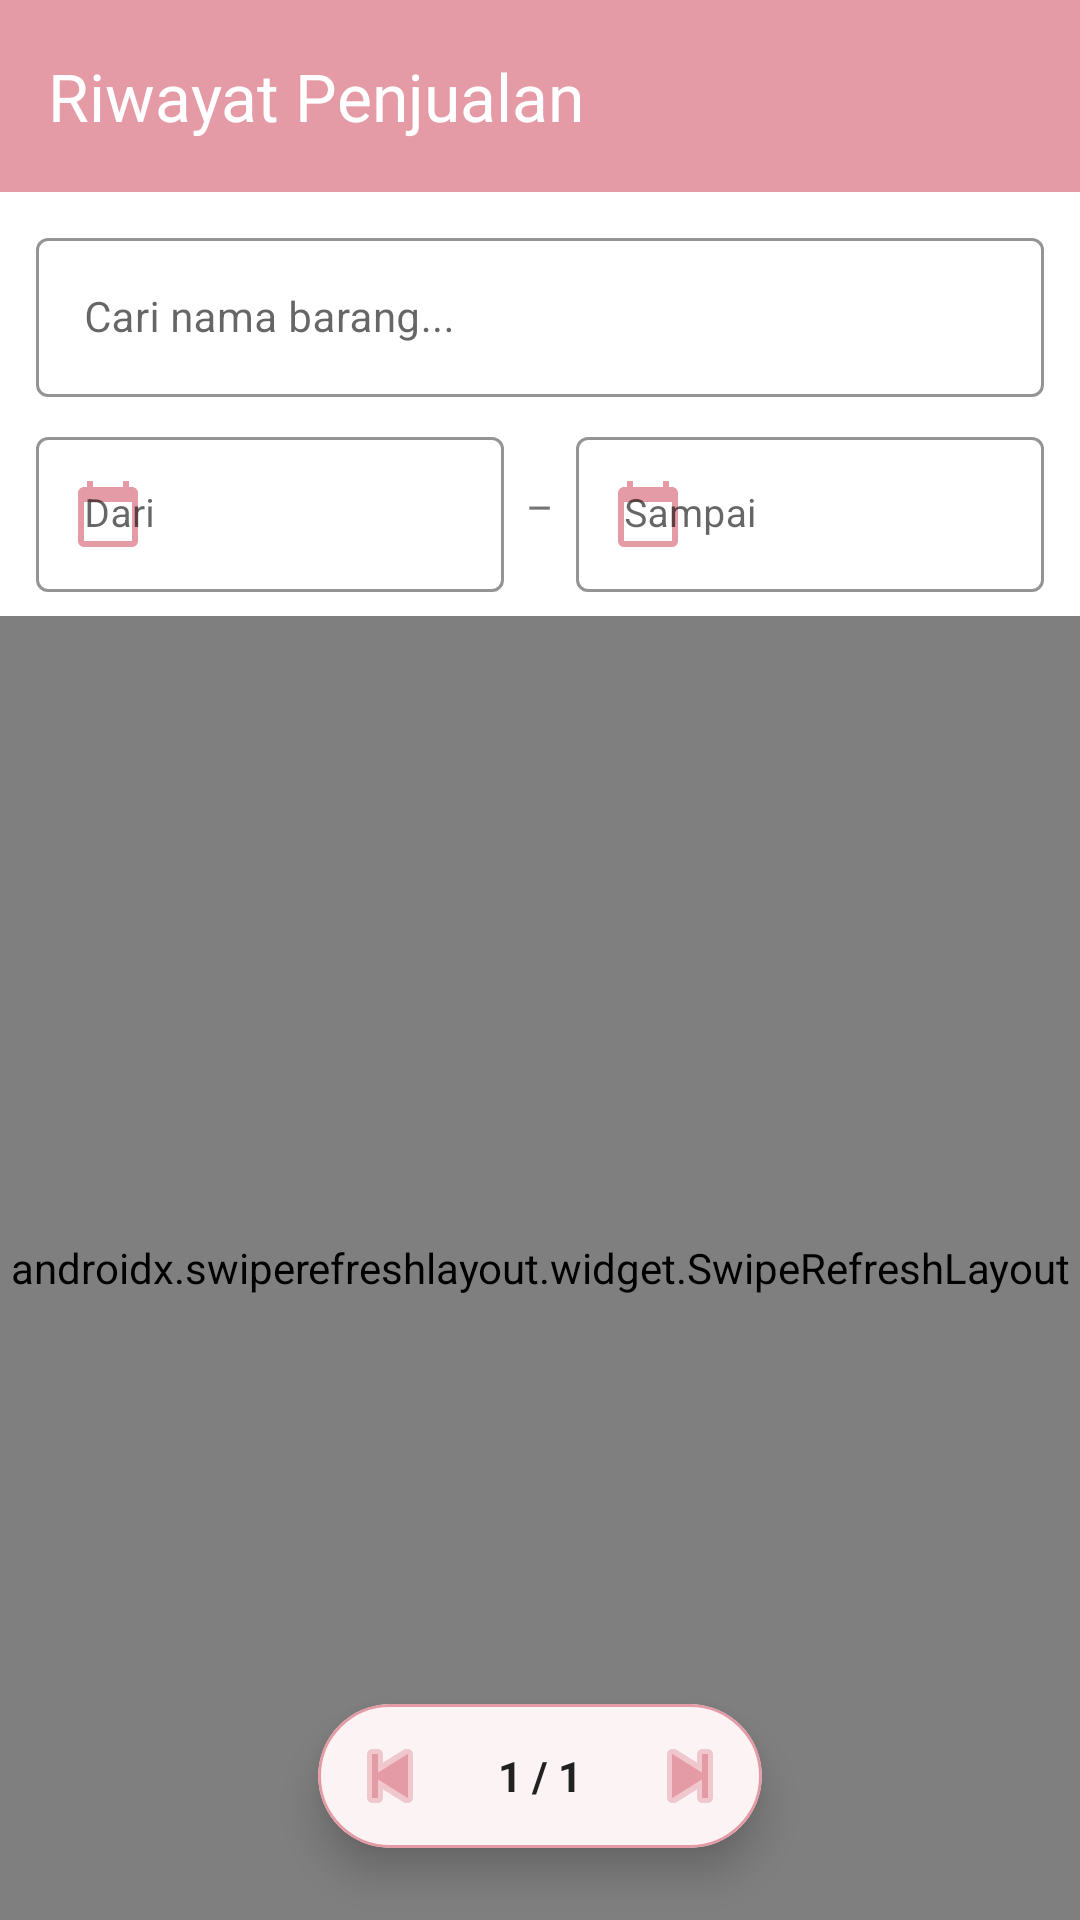

Point at icon controls on the screen. Image size 1080x1920, points as (x=x, y=y).
next: (x=690, y=1776)
previous: (x=390, y=1776)
